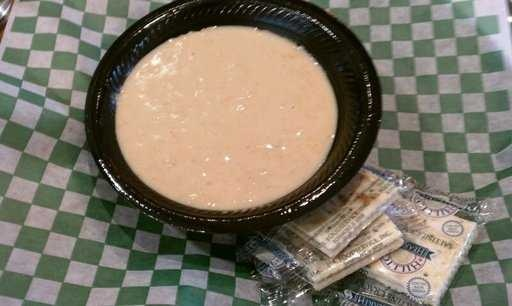soup: (104, 25, 361, 197)
